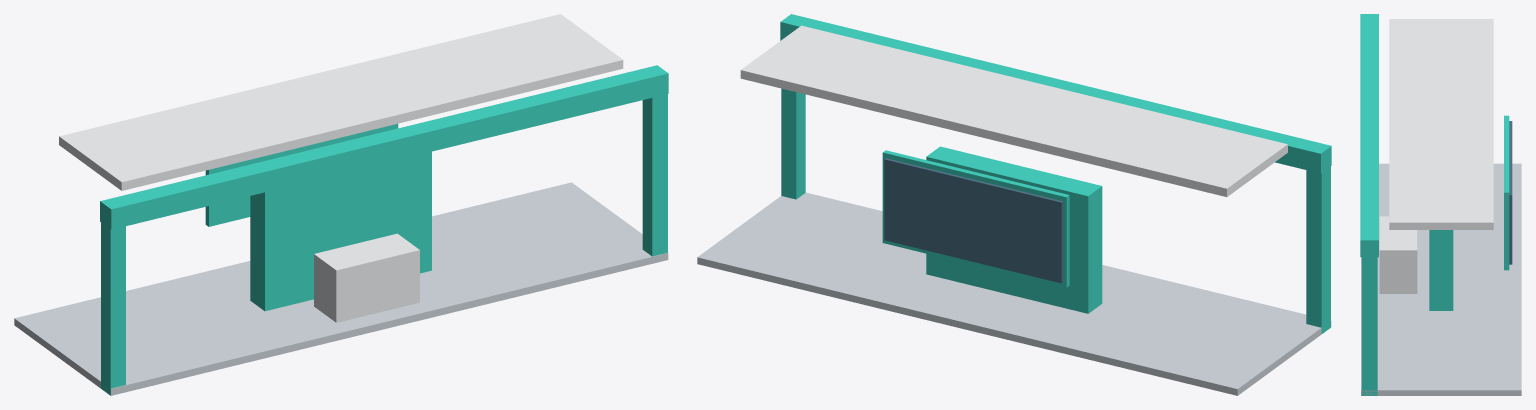
3 views of the same model, side by side, from view 1: azimuth 30°, elevation 25°; view 2: azimuth 150°, elevation 25°; view 3: azimuth 270°, elevation 25° (orthographic). The views are drawn at different scales.
Visible parts, largest first — view 1: Exhibition Booth Concept; view 2: Exhibition Booth Concept; view 3: Exhibition Booth Concept.
Boxes of the visible parts, left/top/right/bottom form: Exhibition Booth Concept: left=14, top=14, right=668, bottom=395; Exhibition Booth Concept: left=697, top=14, right=1331, bottom=395; Exhibition Booth Concept: left=1360, top=14, right=1521, bottom=395.
Bounding box in the file's own units: 10 × 3.34 × 3.01.
